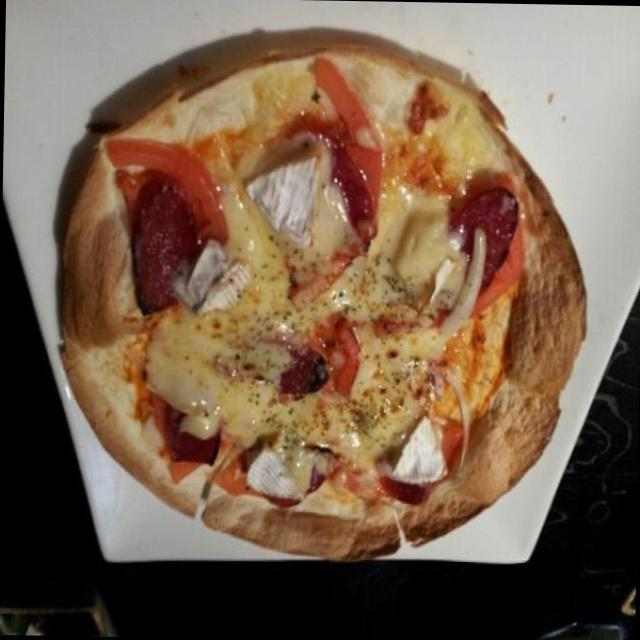Pizza: (39, 35, 594, 569)
